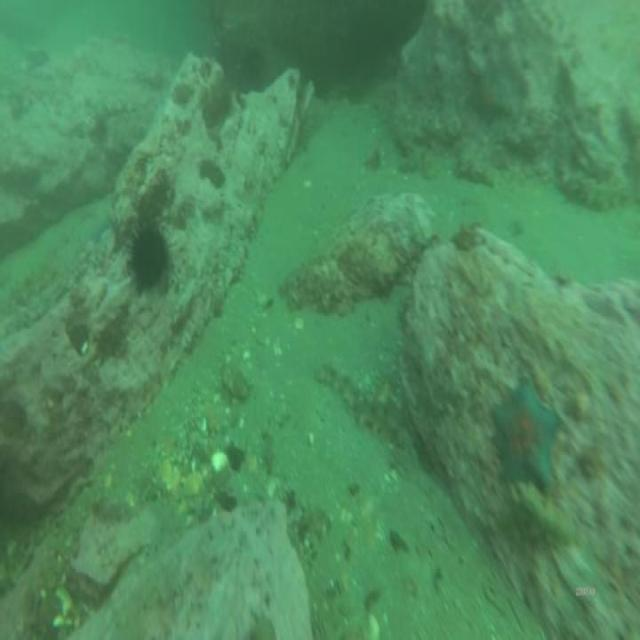echinus: (130, 218, 172, 299)
holothurian: (318, 349, 390, 436), (490, 487, 570, 537), (562, 162, 620, 214)
starfish: (491, 373, 559, 495)
